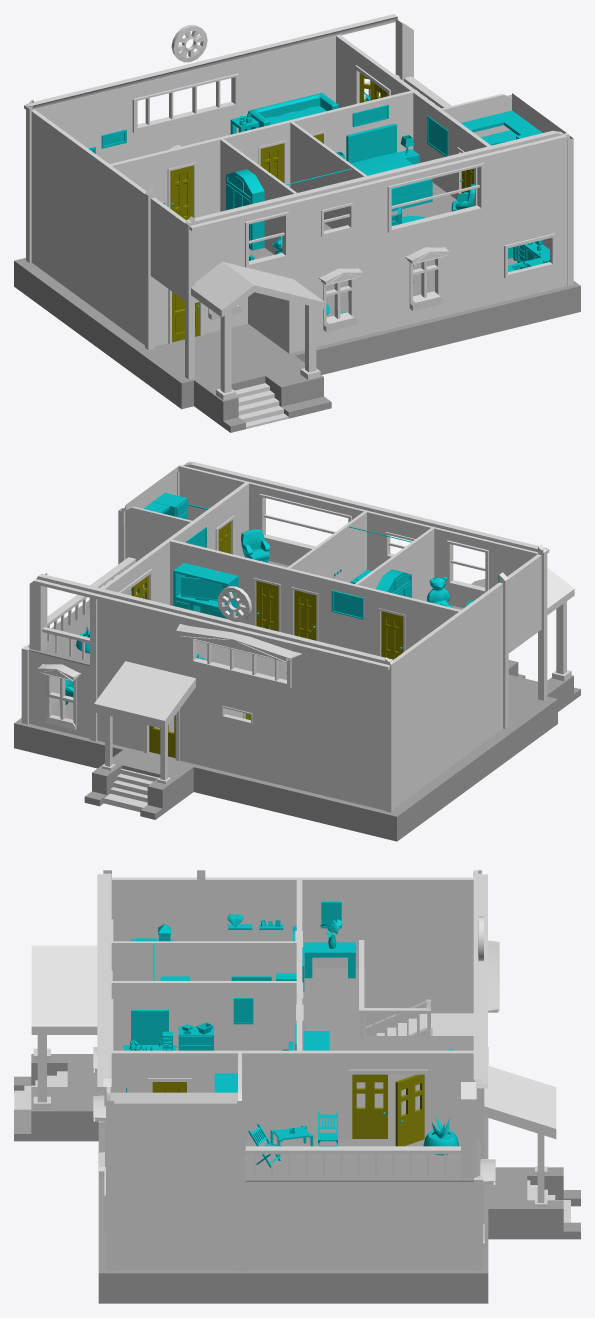
Rendered from estructura 6.fbx.
The picture shows the model from 3 angles, top to bottom: view 1: azimuth 30°, elevation 25°; view 2: azimuth 150°, elevation 25°; view 3: azimuth 270°, elevation 25°; orthographic projection. The views are drawn at different scales.
Parts seen in each view (by area): view 1: polySurface144, polySurface133, polySurface139, piso_techo (×2), pCube309, pCube426, pCube367, pCube304, polySurface141, polySurface124, polySurface12, pCube381 (+1 smaller); view 2: polySurface144, polySurface133, piso_techo (×2), pCube427, puerta2_piso_techo, polySurface141, television1, pCube365, pCube429, pCube309, pCube364, puerta_trasera (+1 smaller); view 3: polySurface144, polySurface133, puerta_balcon_puerta_trasera4, puerta_balcon_puerta_trasera3, polySurface143, pCube359, mesa1_pCube142_polySurface87, pCube366, pCube425, pCube372.
Boxes of the visible parts, x1,y1,x2,y2 form: polySurface144: [14, 14, 580, 432]; polySurface133: [31, 187, 144, 344]; polySurface139: [154, 279, 247, 346]; piso_techo (×2): [170, 143, 283, 219]; pCube309: [226, 169, 264, 250]; pCube426: [248, 93, 338, 129]; pCube367: [346, 123, 396, 163]; pCube304: [351, 152, 432, 200]; polySurface141: [145, 187, 154, 350]; polySurface124: [461, 110, 538, 135]; polySurface12: [172, 291, 199, 342]; pCube381: [427, 115, 448, 156]; polySurface144: [14, 461, 580, 841]; polySurface133: [394, 656, 502, 807]; piso_techo (×2): [294, 590, 403, 659]; pCube427: [173, 562, 238, 618]; puerta2_piso_techo: [256, 581, 278, 631]; polySurface141: [499, 572, 508, 728]; television1: [181, 576, 222, 601]; pCube365: [241, 529, 269, 562]; pCube429: [331, 590, 363, 619]; pCube309: [375, 569, 411, 597]; pCube364: [152, 492, 187, 519]; puerta_trasera: [149, 715, 175, 757]; polySurface144: [14, 870, 580, 1303]; polySurface133: [366, 968, 473, 1035]; puerta_balcon_puerta_trasera4: [352, 1074, 387, 1138]; puerta_balcon_puerta_trasera3: [395, 1074, 424, 1146]; polySurface143: [237, 1097, 245, 1270]; pCube359: [131, 1009, 168, 1044]; mesa1_pCube142_polySurface87: [304, 942, 356, 978]; pCube366: [178, 1026, 213, 1050]; pCube425: [423, 1116, 459, 1155]; pCube372: [233, 998, 253, 1024].
Size of the model in its own units: 16.83 by 8.9 by 17.81.
